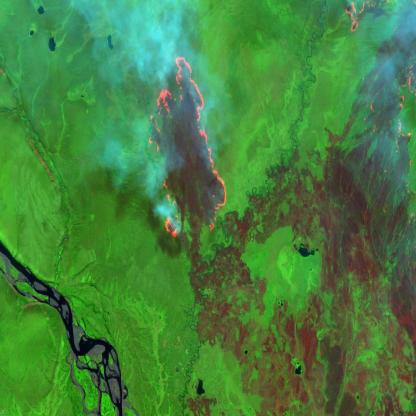fire: (138, 51, 230, 240), (342, 0, 416, 206)
